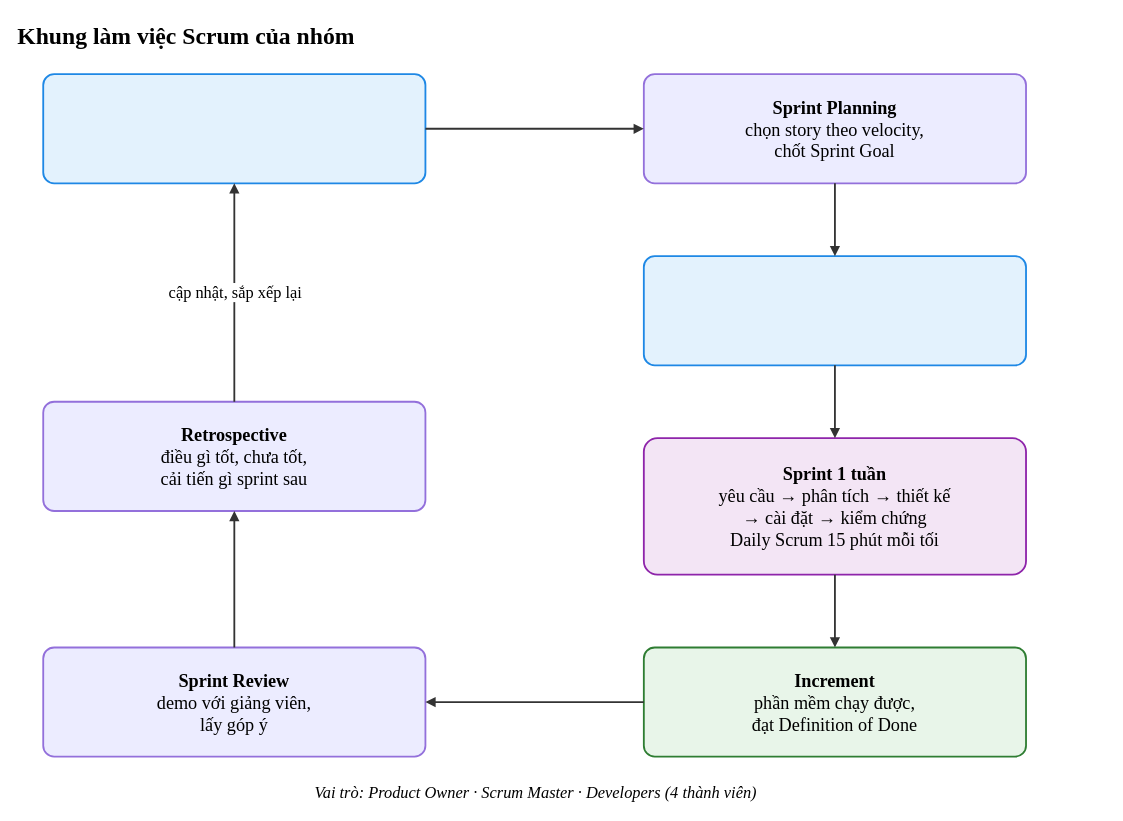
Some shapes in this 1123 by 821 pixel diagram are drawn without their labels. Each missing label, with the box of its shape:
Product Backlog user story sắp theo ưu tiên (MoSCoW, story point): (42, 73, 426, 184)
Sprint Backlog story + task, mỗi story 1 người phụ trách: (642, 255, 1026, 366)
